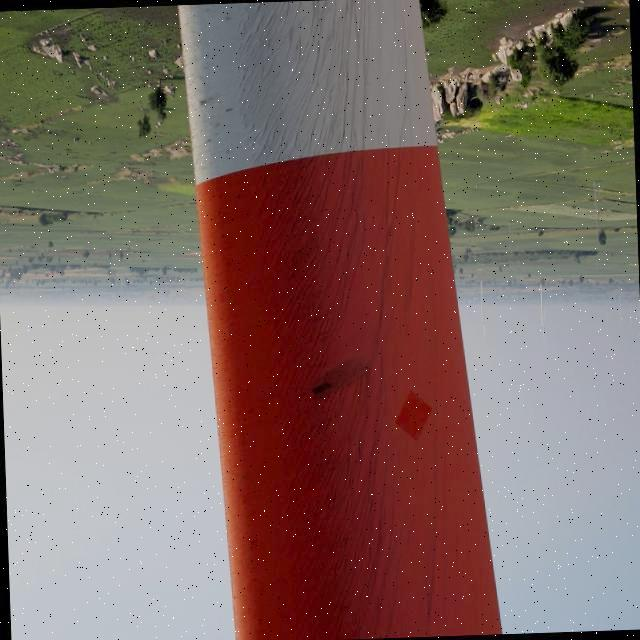Dirt: (195, 0, 427, 640)
Pin Hole: (314, 378, 332, 399)
